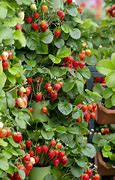Fresa: (12, 131, 24, 143), (57, 8, 66, 21), (1, 60, 10, 72), (40, 20, 48, 33), (24, 13, 33, 24), (83, 112, 91, 124), (54, 27, 61, 40), (35, 90, 42, 103), (50, 91, 58, 102), (41, 143, 49, 154), (61, 155, 68, 167), (52, 157, 60, 167), (48, 149, 55, 159), (35, 144, 41, 155), (43, 82, 51, 90), (32, 22, 39, 31), (53, 82, 60, 91), (41, 104, 48, 113), (74, 60, 79, 72)
